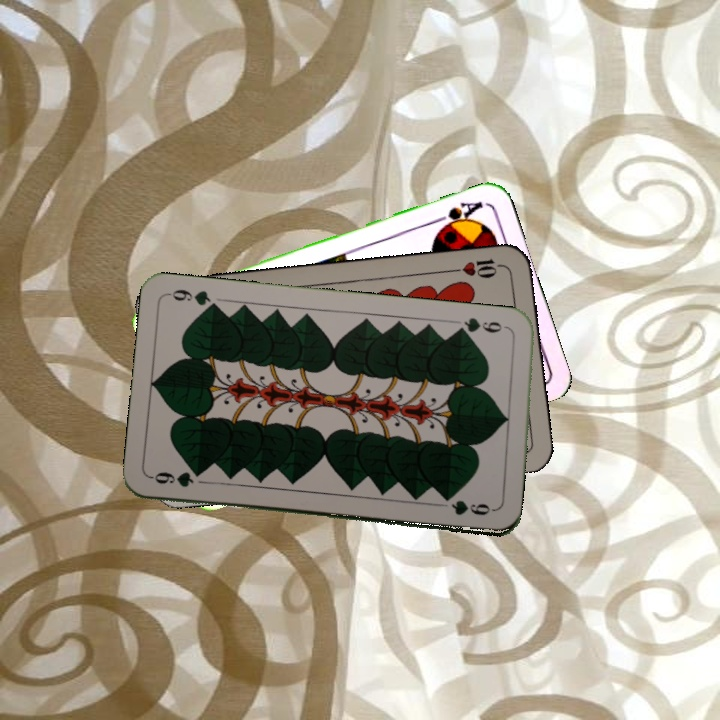G9: (453, 313, 513, 337), (147, 467, 196, 490)
H10: (448, 254, 507, 281)
SA: (429, 196, 486, 233)
